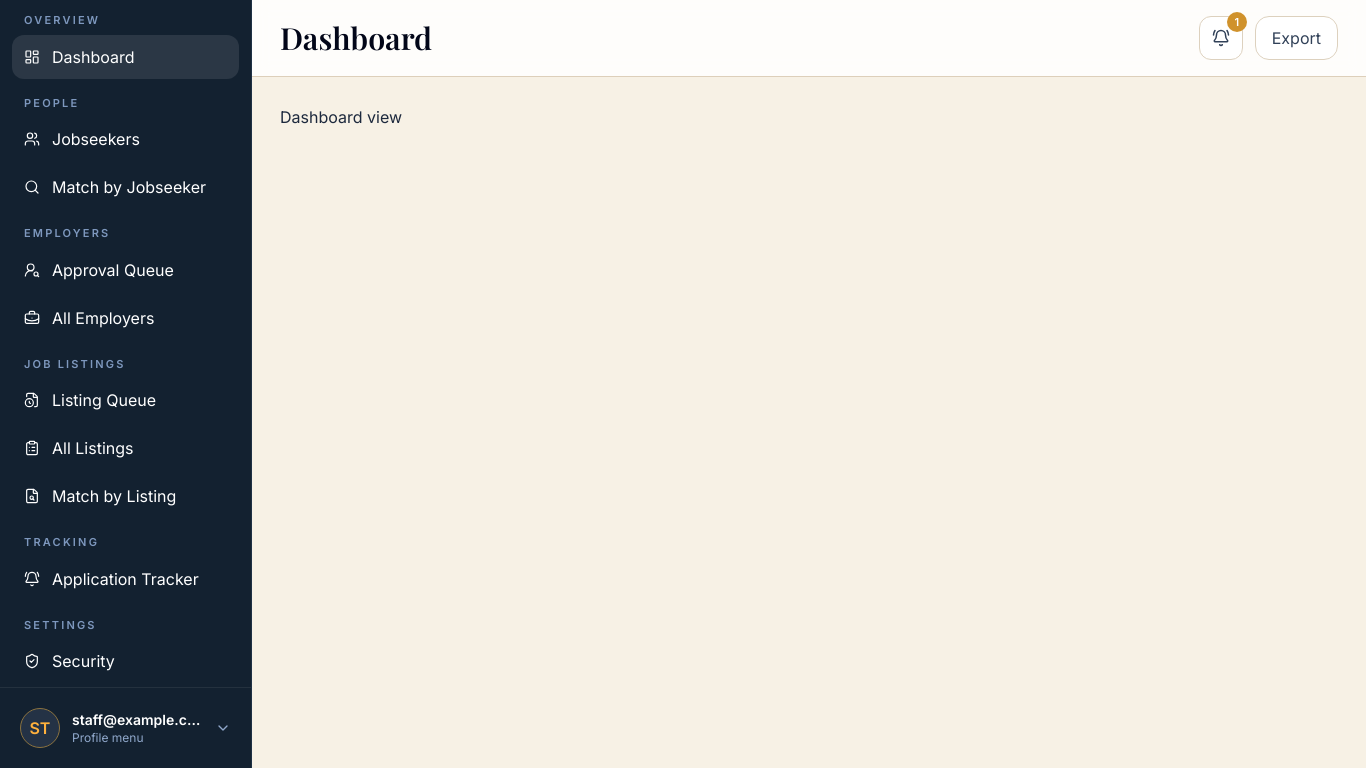
it: bell notifications with malformed targets remain readable and non-clickable
The width and height of the screenshot is (1366, 768).
Expected: the text "Dashboard view" is shown, left=280, top=107, right=402, bottom=127
What coordinates should you click on to do the following:
click the button named "notifications"
I would click on:
 (1221, 38)
Its box is left=1199, top=16, right=1243, bottom=60.
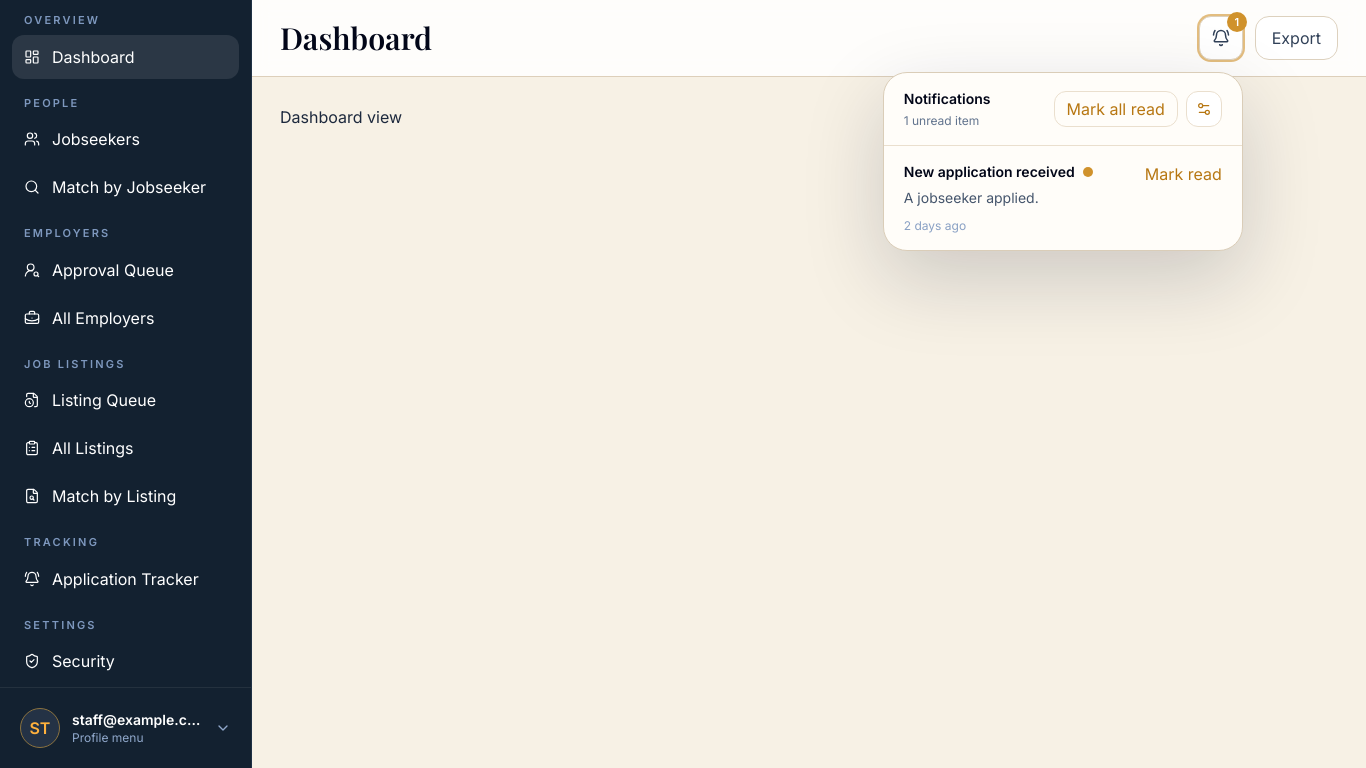
Expected: the text "New application received" is shown, left=904, top=162, right=1075, bottom=182
